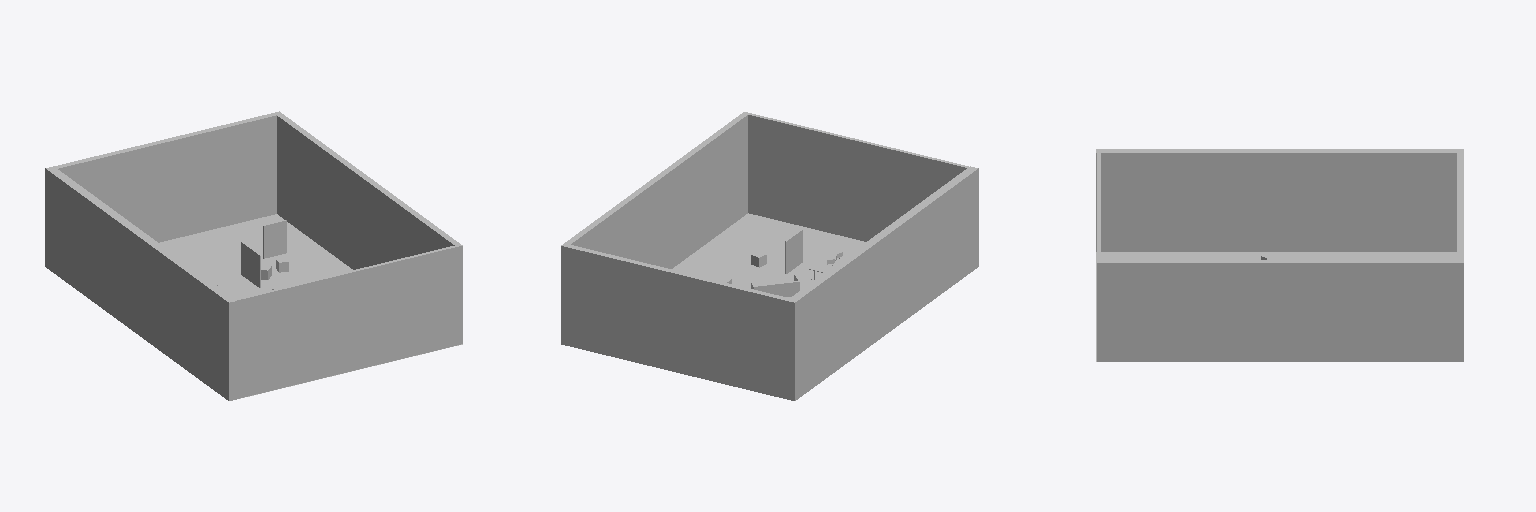
The model's file is office6.obj.
3 renders of one model, left to right at view 1: azimuth 30°, elevation 25°; view 2: azimuth 150°, elevation 25°; view 3: azimuth 270°, elevation 25°, orthographic.
Visible parts, largest first — view 1: 立方体.012, 立方体.011, 立方体.002, 立方体, Plane.053, Cube.004, Plane.004; view 2: 立方体.002, 立方体.011, 立方体.012, 立方体, Plane.053, Plane.004; view 3: 立方体, 立方体.011, Plane.053, 立方体.012, 立方体.002.
Boxes of the visible parts, x1,y1,x2,y2 form: 立方体.012: [236, 244, 462, 398]; 立方体.011: [49, 169, 237, 400]; 立方体.002: [45, 113, 276, 268]; 立方体: [274, 111, 459, 269]; Plane.053: [159, 214, 462, 398]; Cube.004: [263, 220, 286, 258]; Plane.004: [241, 242, 275, 289]; 立方体.002: [567, 245, 797, 400]; 立方体.011: [791, 166, 978, 398]; 立方体.012: [743, 112, 968, 241]; 立方体: [561, 113, 747, 345]; Plane.053: [672, 213, 865, 297]; Plane.004: [726, 229, 802, 296]; 立方体: [1101, 260, 1463, 361]; 立方体.011: [1096, 149, 1456, 251]; Plane.053: [1096, 252, 1456, 361]; 立方体.012: [1097, 153, 1100, 361]; 立方体.002: [1457, 149, 1463, 259].
Size of the model in its own units: 19 by 7.54 by 25.45.